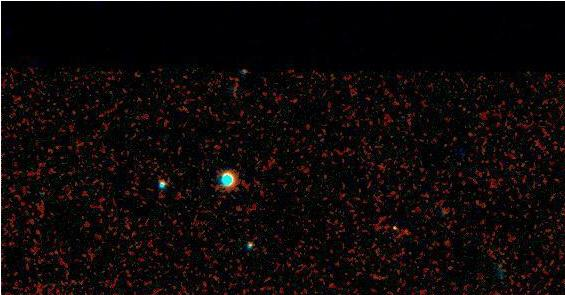star: (373, 208, 403, 238)
